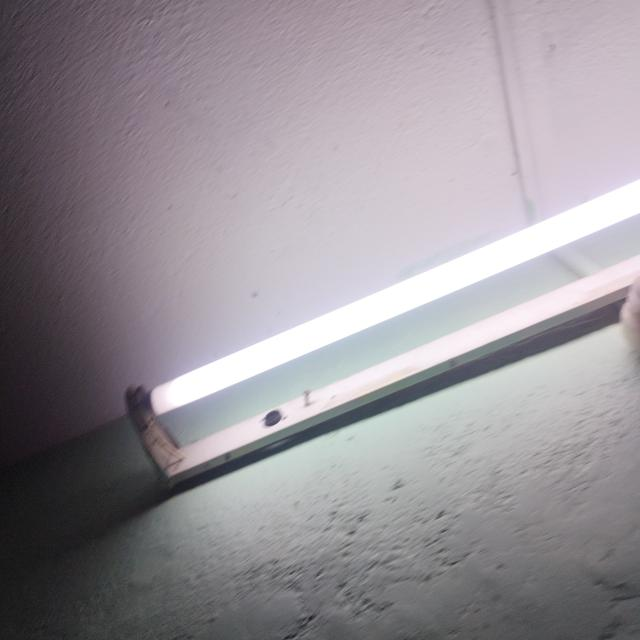tubelight_on: (118, 168, 640, 493)
